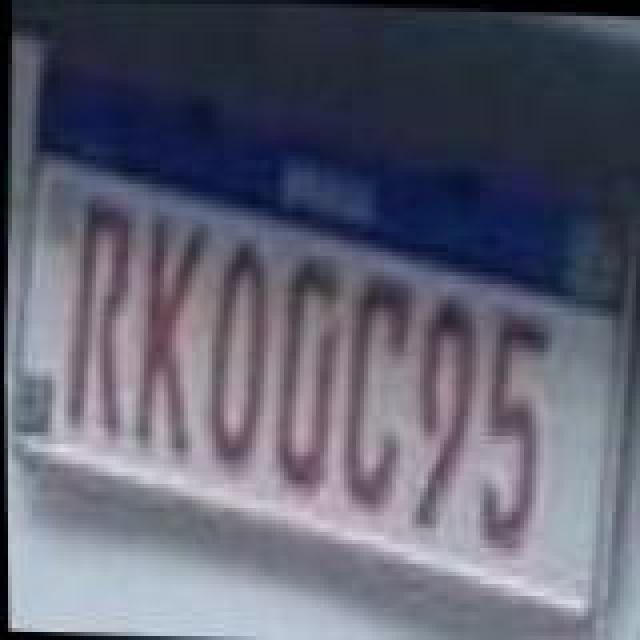5: (470, 308, 550, 556)
9: (400, 290, 480, 530)
C: (330, 268, 410, 508)
D: (268, 254, 344, 494)
K: (126, 210, 210, 450)
O: (198, 238, 270, 462)
R: (60, 194, 132, 430)
